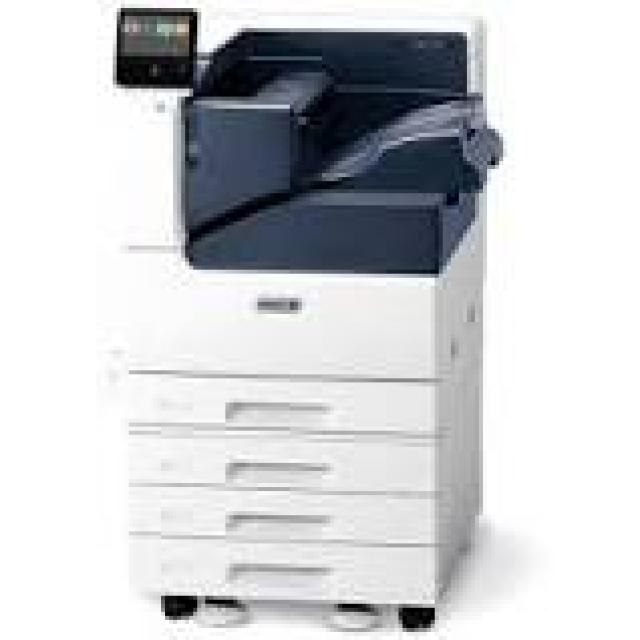printer: (46, 0, 525, 640)
